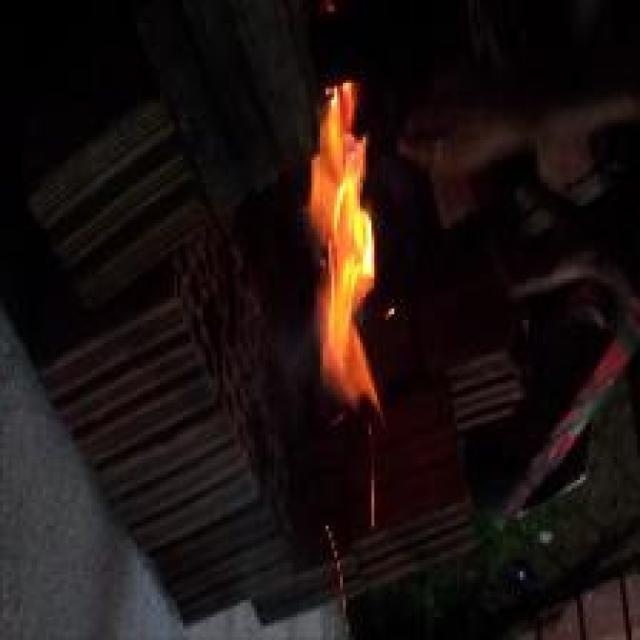fire: (271, 67, 442, 446)
